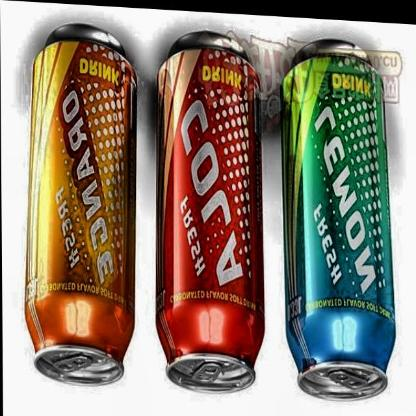Can: (16, 12, 146, 396), (280, 32, 400, 404), (152, 24, 266, 400)
